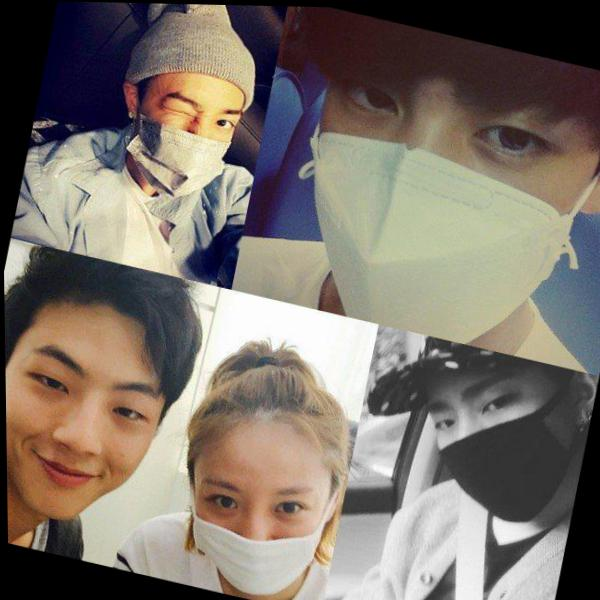NONE: (5, 336, 173, 529)
OK: (283, 31, 600, 364), (385, 353, 570, 539), (121, 74, 250, 204)
WRONG: (166, 419, 352, 600)
